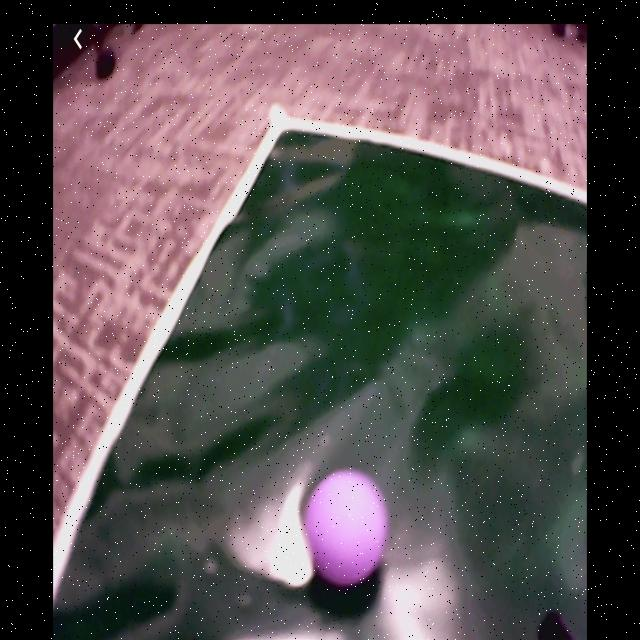ball: (306, 470, 387, 584)
